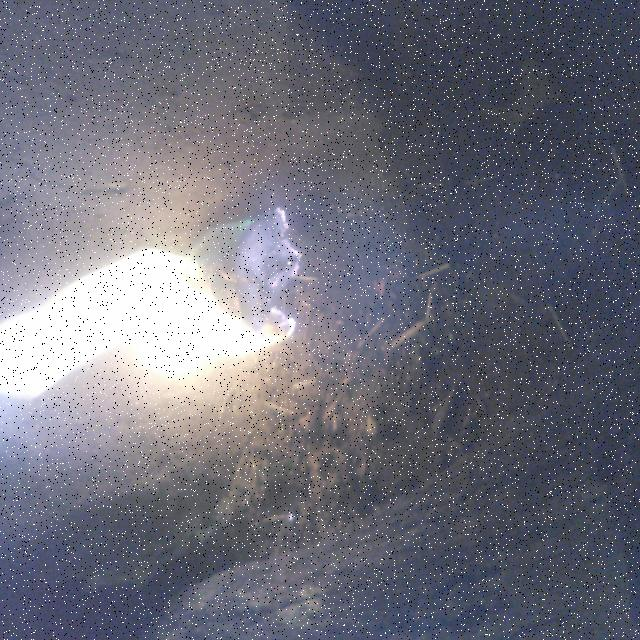fire: (2, 222, 311, 430)
